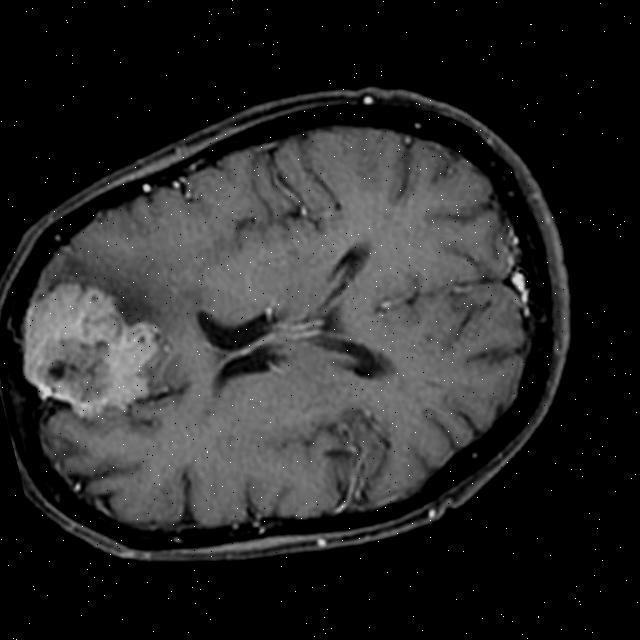Meningioma: (0, 258, 177, 432)
